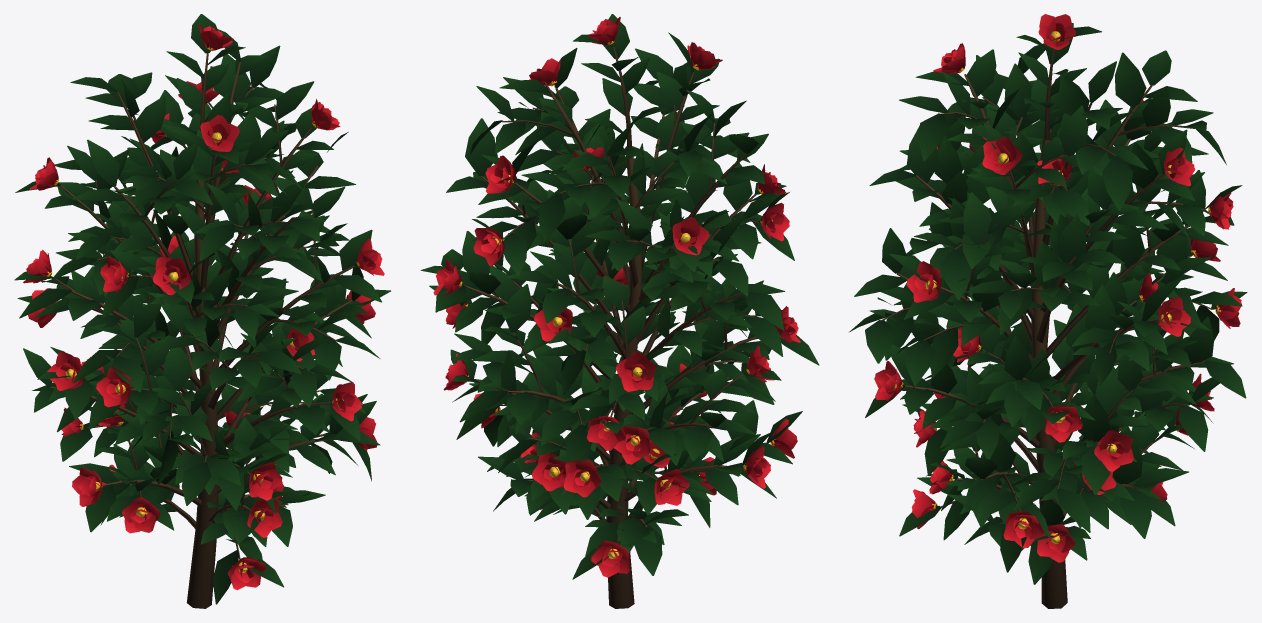
File: treeKitsuneCamellia.fbx
3 renders of one model, left to right at view 1: azimuth 30°, elevation 25°; view 2: azimuth 150°, elevation 25°; view 3: azimuth 270°, elevation 25°, orthographic. The views are drawn at different scales.
Visible parts, largest first — view 1: treeKitsuneCamellia; view 2: treeKitsuneCamellia; view 3: treeKitsuneCamellia.
Boxes of the visible parts, box(x1,y1,x2,y2) form: treeKitsuneCamellia: box(14, 14, 390, 608); treeKitsuneCamellia: box(420, 14, 819, 608); treeKitsuneCamellia: box(849, 14, 1247, 608).
Bounding box in the file's own units: 0.9925 × 1.51 × 0.9229.
Materials: 1 (1 with a texture image).
